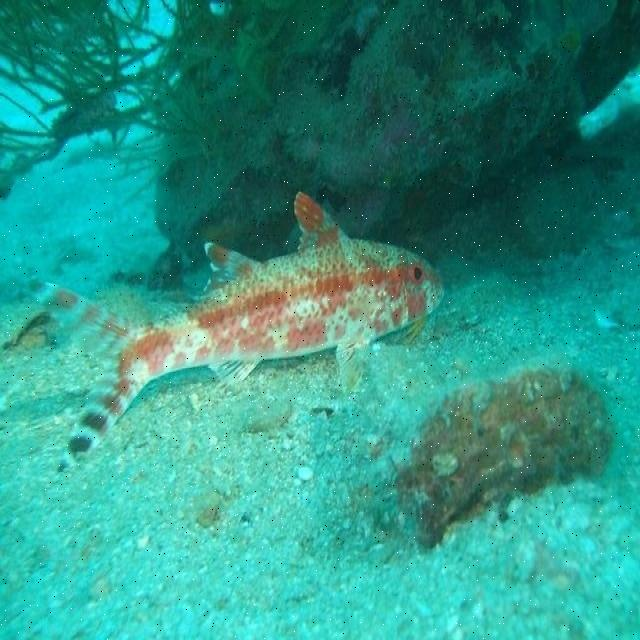aquatic plants: (0, 1, 320, 200)
fish: (27, 194, 445, 474)
reefs: (148, 6, 639, 261), (380, 365, 617, 549)
